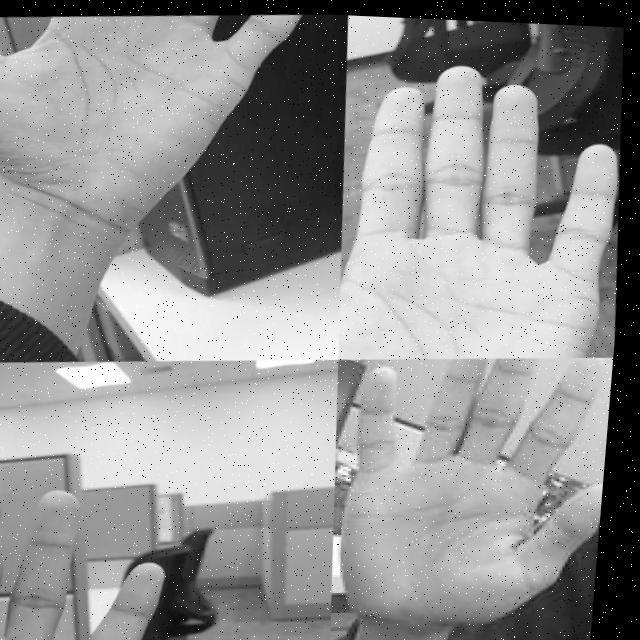no-gloves: (328, 48, 638, 364), (331, 341, 619, 633), (0, 0, 347, 226), (0, 440, 203, 640)
